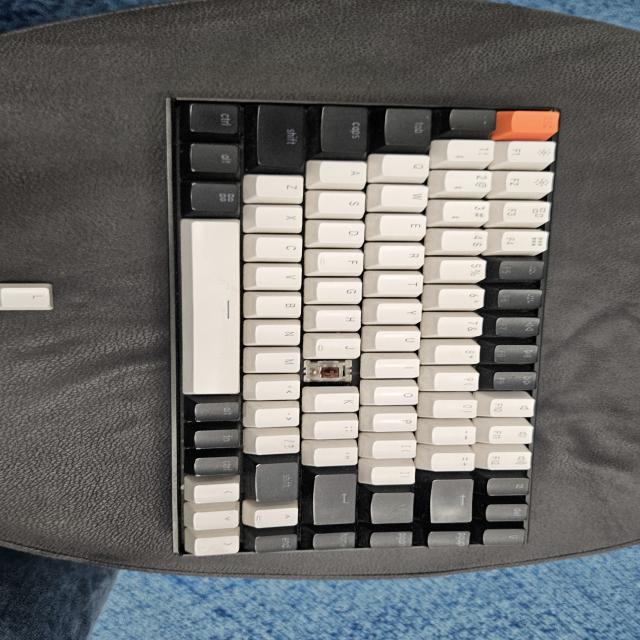C: (309, 359, 352, 387)
